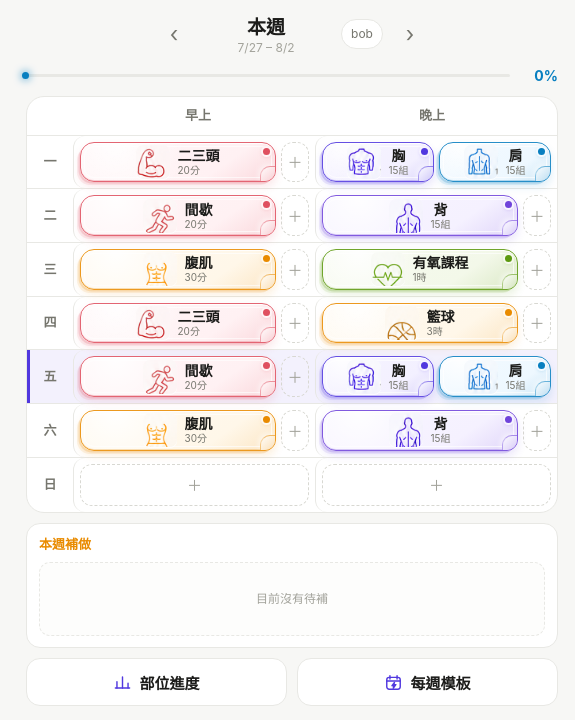
Test case: App — 週切換 › 切到上一週再切回本週
Expected: the text "早上" is shown, [185,107,211,123]
Expected: the text "本週" is shown, [247,12,285,39]
Click the button named "上一週": (174, 34) [157,16,191,50]
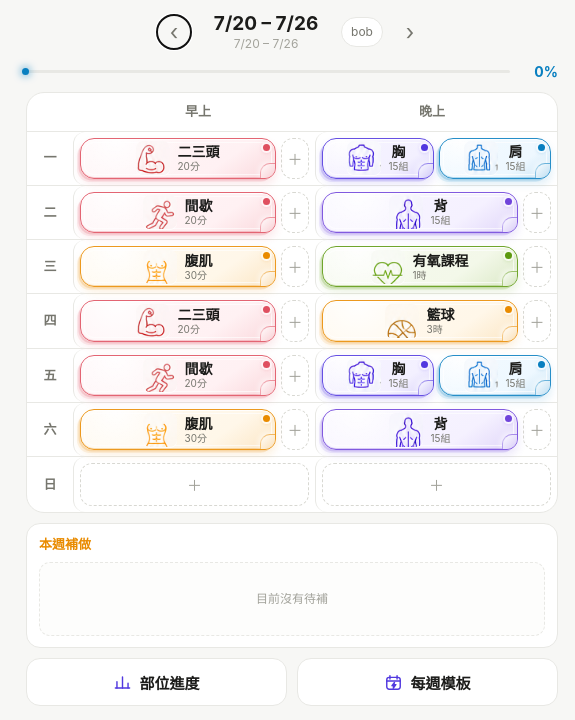
Click the button named "下一週": (410, 32) [393,14,427,48]
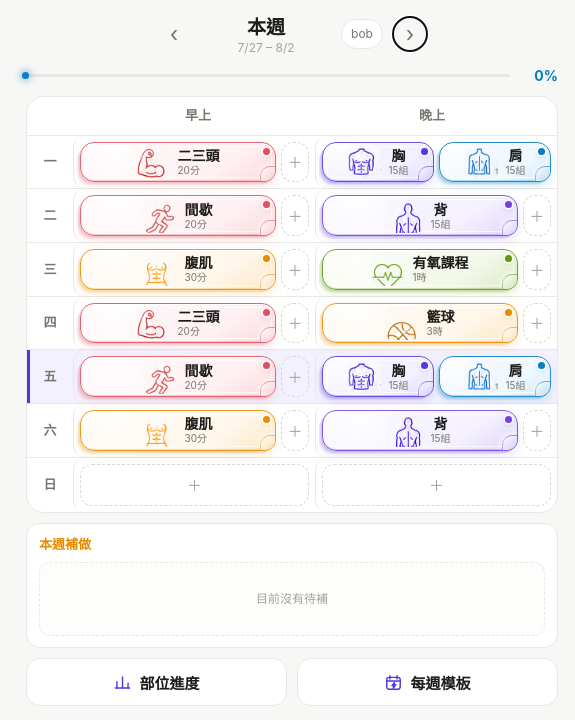
Result: the text "本週" is shown at [247,12,285,39]
